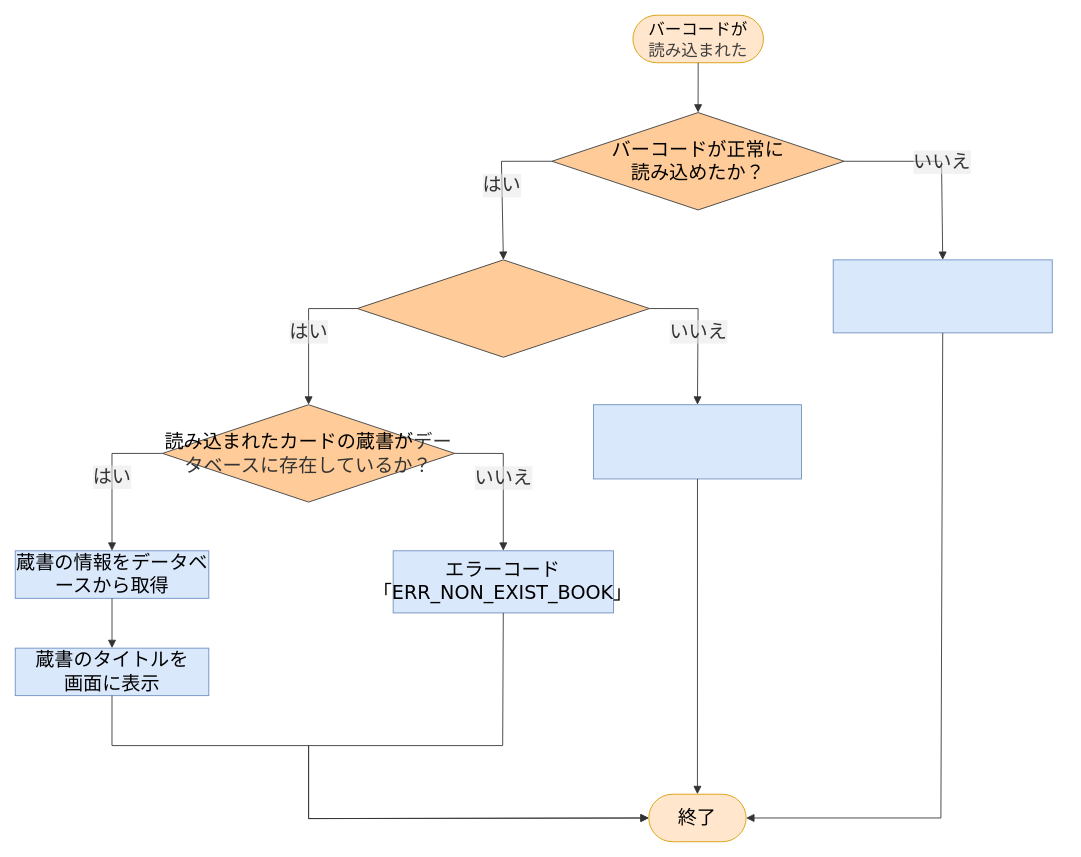
Some shapes in this 1081 by 857 pixel diagram are drawn without their labels. The centre of each missing label's shape, as x and y in pixels:
エラーコード「ERR_BOOK_BARCODE」: the point at 697,441
エラーコード「ERR_INPUT_BARCODE」: the point at 942,296
読み込んだバーコードは 蔵書のものか？: the point at 502,308
